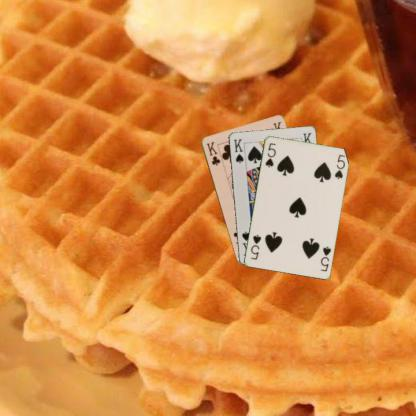5s: (262, 141, 277, 168), (318, 244, 332, 272)
Kc: (204, 139, 221, 166)
Ks: (231, 136, 245, 164)
